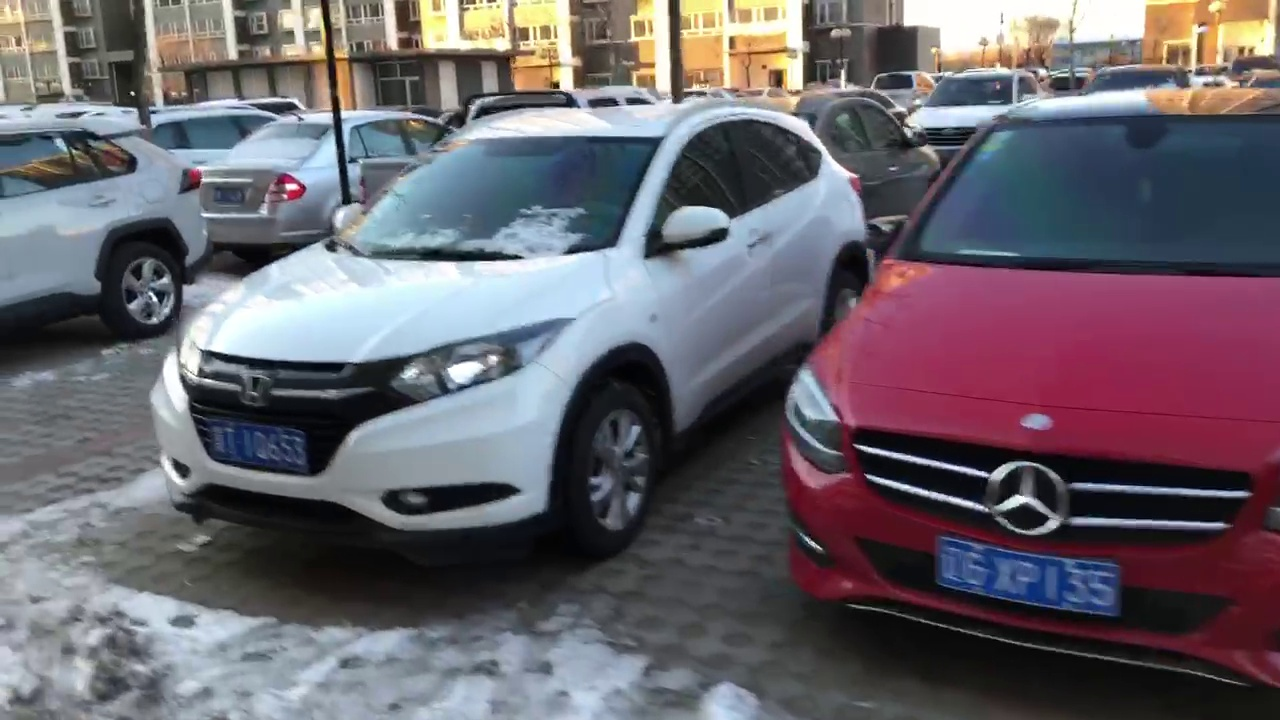plate: (932, 544, 1123, 604), (209, 431, 304, 467)
